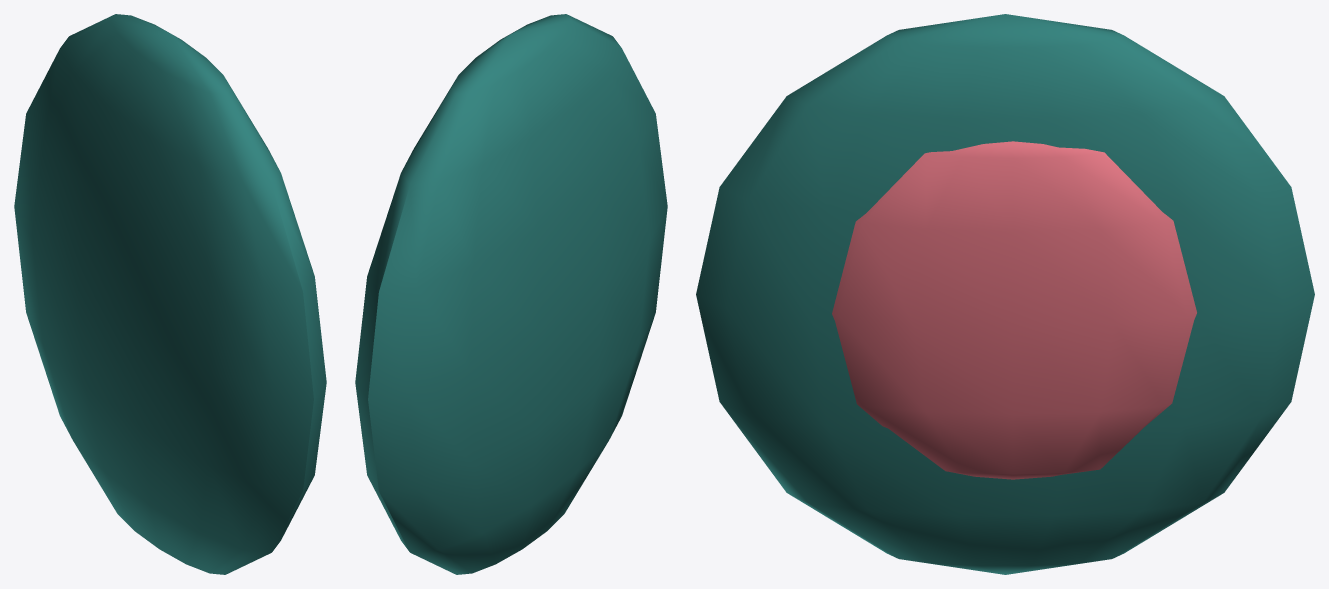
The model's file is ear_round.glb.
3 views of the same model, side by side, from view 1: azimuth 30°, elevation 25°; view 2: azimuth 150°, elevation 25°; view 3: azimuth 270°, elevation 25° (orthographic). The views are drawn at different scales.
Parts seen in each view (by area): view 1: ear_round; view 2: ear_round; view 3: ear_round, ear_round_inner.
Boxes of the visible parts, <box> form: ear_round: <box>14,14,326,574</box>; ear_round: <box>355,14,667,574</box>; ear_round: <box>696,14,1314,574</box>; ear_round_inner: <box>832,141,1196,479</box>.
Bounding box in the file's own units: 0.1067 × 0.4 × 0.4.
